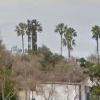Palm tree: (14, 12, 53, 56)
